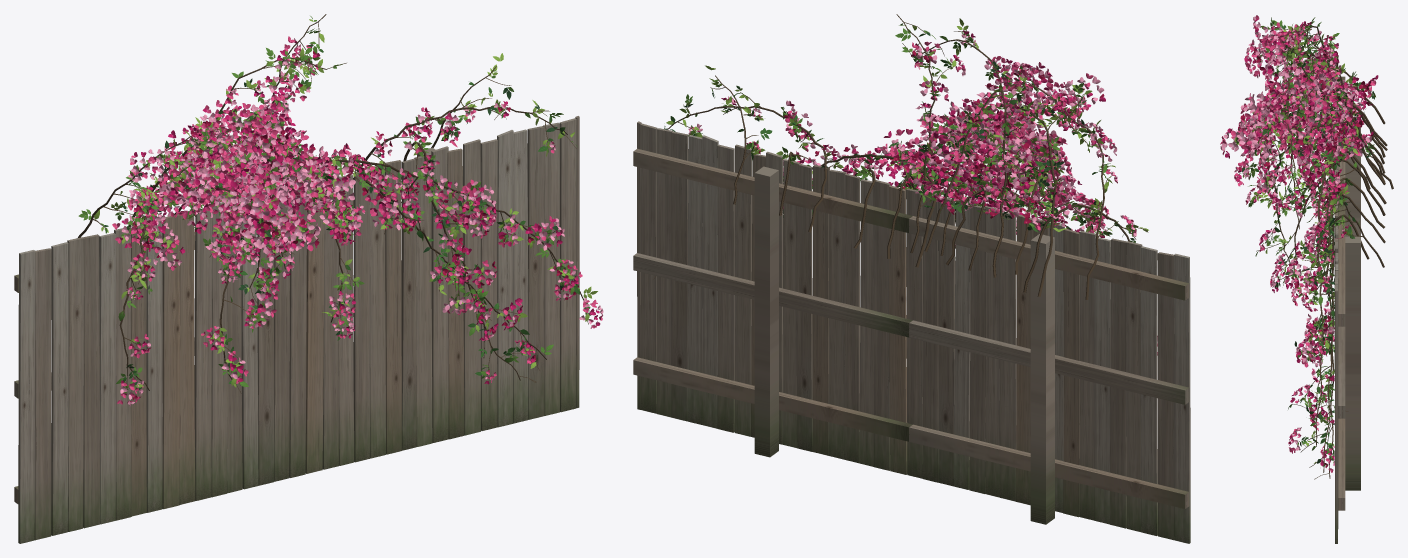
File: BGV_fence_bougainvillea.glb
The picture shows the model from 3 angles, left to right: view 1: azimuth 30°, elevation 25°; view 2: azimuth 150°, elevation 25°; view 3: azimuth 270°, elevation 25°; orthographic projection. The views are drawn at different scales.
Visible parts, largest first — view 1: BGV_fence_boards, BGV_bougainvillea_flowers, BGV_bougainvillea_leaves, BGV_bougainvillea_primary_stems, BGV_bougainvillea_secondary_stems; view 2: BGV_fence_boards, BGV_fence_structure, BGV_bougainvillea_flowers, BGV_bougainvillea_leaves, BGV_bougainvillea_primary_stems, BGV_bougainvillea_secondary_stems; view 3: BGV_bougainvillea_flowers, BGV_bougainvillea_leaves, BGV_fence_structure, BGV_bougainvillea_primary_stems, BGV_bougainvillea_secondary_stems, BGV_fence_boards.
Part boxes in pixels (x1,y1,x2,y2): BGV_fence_boards: (18, 116, 579, 543); BGV_bougainvillea_flowers: (112, 36, 603, 406); BGV_bougainvillea_leaves: (78, 16, 597, 393); BGV_bougainvillea_primary_stems: (78, 14, 583, 390); BGV_bougainvillea_secondary_stems: (92, 22, 588, 393); BGV_fence_boards: (637, 121, 1190, 543); BGV_fence_structure: (633, 148, 1189, 524); BGV_bougainvillea_flowers: (688, 30, 1157, 355); BGV_bougainvillea_leaves: (664, 18, 1148, 242); BGV_bougainvillea_primary_stems: (667, 14, 1130, 299); BGV_bougainvillea_secondary_stems: (653, 22, 1148, 279); BGV_bougainvillea_flowers: (1220, 15, 1378, 472); BGV_bougainvillea_leaves: (1234, 17, 1375, 466); BGV_fence_structure: (1338, 76, 1360, 510); BGV_bougainvillea_primary_stems: (1260, 26, 1393, 478); BGV_bougainvillea_secondary_stems: (1235, 28, 1372, 479); BGV_fence_boards: (1334, 57, 1338, 543).
Size of the model in its own units: 3.63 by 2.84 by 1.12.
Materials: 4 (3 with a texture image).
